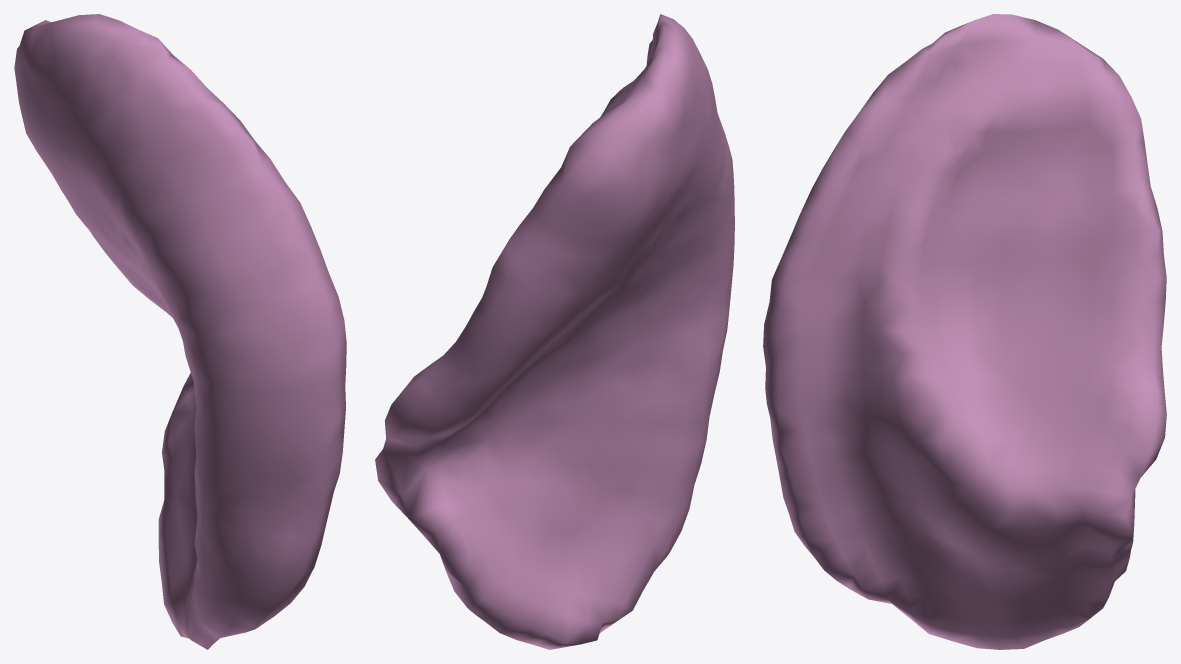
3 renders of one model, left to right at view 1: azimuth 30°, elevation 25°; view 2: azimuth 150°, elevation 25°; view 3: azimuth 270°, elevation 25°, orthographic. The views are drawn at different scales.
Parts seen in each view (by area): view 1: 右侧豆状核; view 2: 右侧豆状核; view 3: 右侧豆状核.
Boxes of the visible parts, x1,y1,x2,y2 form: 右侧豆状核: (14,14,346,649); 右侧豆状核: (375,14,734,649); 右侧豆状核: (763,14,1166,649).
Bounding box in the file's own units: 0.0327 × 0.0771 × 0.0473.
